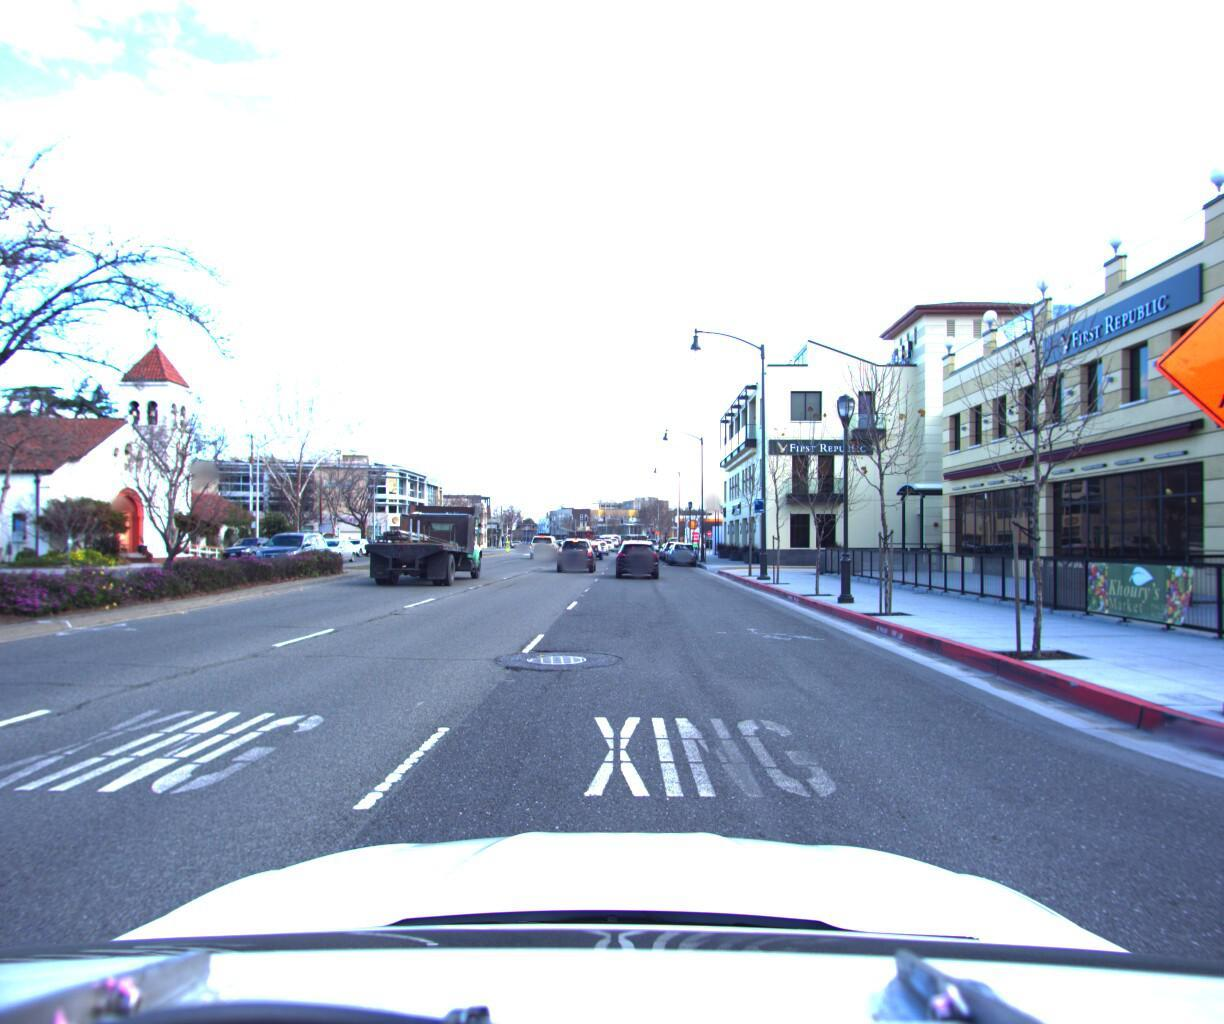car: (248, 527, 332, 569), (614, 534, 661, 576), (217, 533, 280, 561), (551, 533, 596, 569), (311, 535, 361, 560), (529, 529, 560, 558), (663, 535, 695, 561), (582, 538, 606, 558)
truck: (358, 487, 494, 586)
